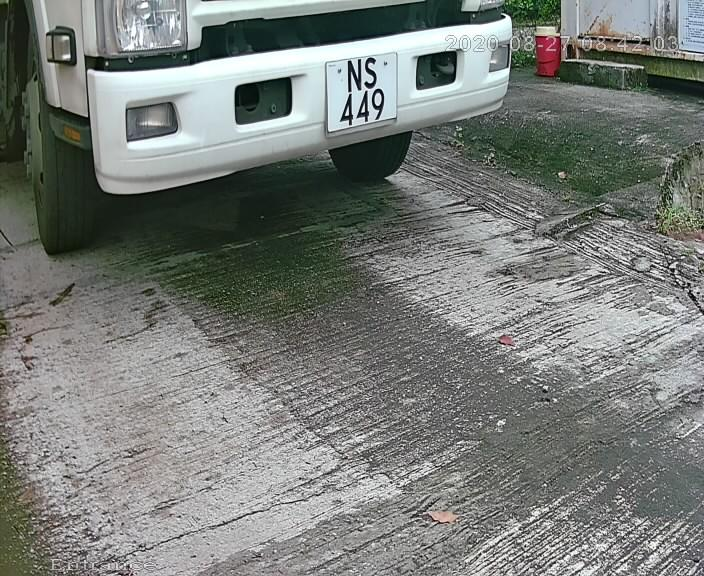Car: (26, 1, 519, 263)
License Plate: (296, 34, 415, 145)
